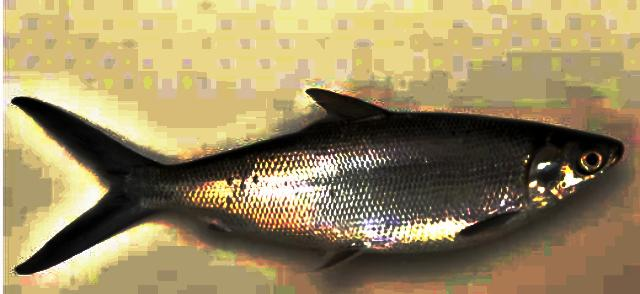Healthy Fish: (12, 89, 626, 276)
